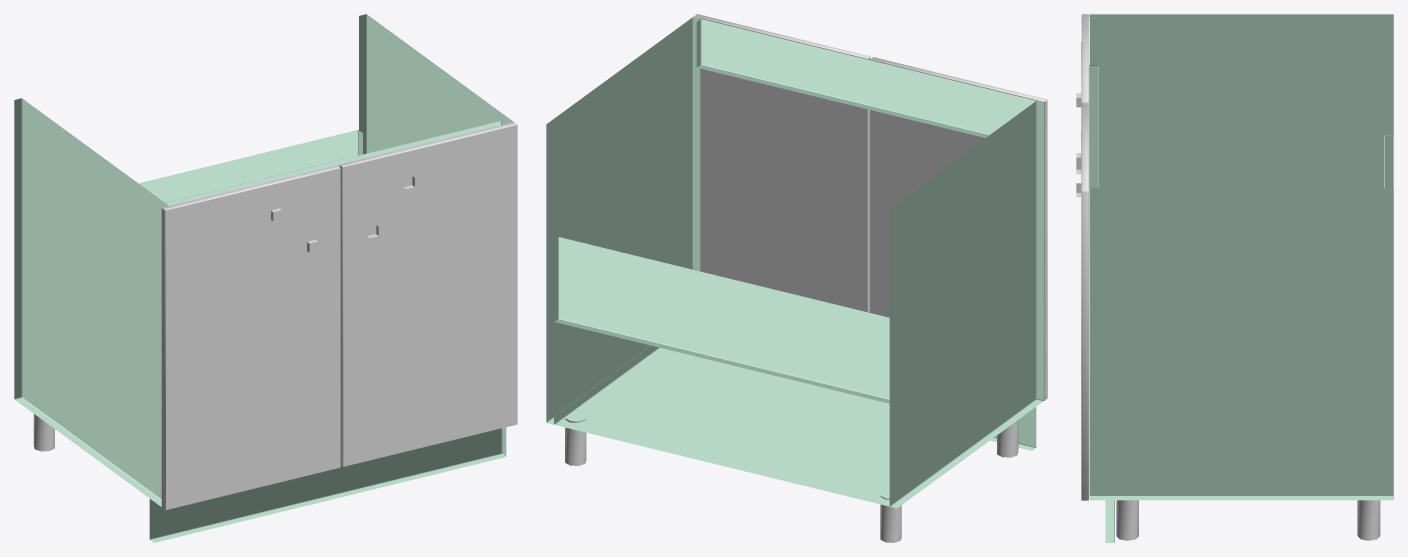
3 renders of one model, left to right at view 1: azimuth 30°, elevation 25°; view 2: azimuth 150°, elevation 25°; view 3: azimuth 270°, elevation 25°, orthographic. The views are drawn at different scales.
Visible parts, largest first — view 1: M_1CL_7, M_1CL_1_F.009, M_1CL_1_F.010, M_1CL_1_F_C.009, M_1CL_1_F_C.010, Legs.001; view 2: M_1CL_7, M_1CL_1_F_B.010, M_1CL_1_F_A.010, M_1CL_1_F_A.009, Legs.001, M_1CL_1_F_C.009, M_1CL_1_F.009, M_1CL_1_F_B.009, M_1CL_1_F_C.010, M_1CL_1_F.010; view 3: M_1CL_7, M_1CL_1_F.010, Legs.001, M_1CL_1_F.009.
Part boxes in pixels (x1,y1,x2,y2): M_1CL_7: [14, 14, 513, 542]; M_1CL_1_F.009: [163, 165, 340, 510]; M_1CL_1_F.010: [340, 122, 517, 466]; M_1CL_1_F_C.009: [161, 208, 164, 508]; M_1CL_1_F_C.010: [339, 165, 342, 465]; Legs.001: [33, 414, 54, 451]; M_1CL_7: [546, 17, 1043, 508]; M_1CL_1_F_B.010: [781, 38, 869, 311]; M_1CL_1_F_A.010: [694, 16, 869, 290]; M_1CL_1_F_A.009: [870, 59, 1045, 317]; Legs.001: [565, 417, 1018, 542]; M_1CL_1_F_C.009: [870, 101, 1047, 400]; M_1CL_1_F.009: [870, 57, 1047, 398]; M_1CL_1_F_B.009: [957, 81, 1046, 400]; M_1CL_1_F_C.010: [701, 57, 870, 312]; M_1CL_1_F.010: [694, 14, 870, 58]; M_1CL_7: [1089, 14, 1393, 542]; M_1CL_1_F.010: [1081, 103, 1088, 500]; Legs.001: [1116, 500, 1380, 540]; M_1CL_1_F.009: [1081, 14, 1088, 130].
Size of the model in its own units: 9.3 by 8.65 by 7.03.
